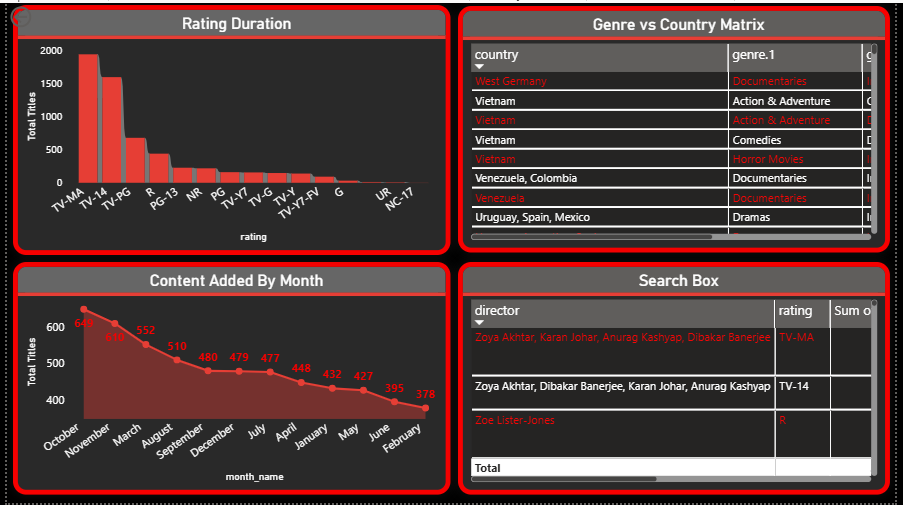

Layout of this report page (visuals, bound fields, positions):
{"tool":"powerbi","page":{"name":"Page 2","canvas":[1280,720],"ordinal":1},"visuals":[{"type":"areaChart","title":"Content Added By Month","fields":{"Y":["dates.Total Titles"],"Category":["dates.month_name"]},"box":[8.3,373.3,630,335],"z":0},{"type":"columnChart","title":"Rating Duration","fields":{"Y":["dates.Total Titles"],"Category":["netflix.rating"]},"box":[8.3,3.3,630,360],"z":1000},{"type":"tableEx","title":"Genre vs Country Matrix","fields":{"Values":["netflix.country","netflix.genre.1","netflix.genre.2","netflix.genre.3"]},"box":[650,5,621.7,355],"z":2000},{"type":"actionButton","box":[0,0,100,40],"z":3000},{"type":"tableEx","title":"Search Box","fields":{"Values":["netflix.director","netflix.rating","Sum(netflix.duration)","netflix.cast"]},"box":[650,373.3,621.7,335],"z":4000}]}

Visuals, with their boxes in screenshot pixels (x1, y1, x2, y2), scaled from the page's 1280x720 canvas onto the 903x505 screenshot:
"Content Added By Month" areaChart: locate(6, 262, 450, 497)
"Rating Duration" columnChart: locate(6, 2, 450, 255)
"Genre vs Country Matrix" tableEx: locate(459, 4, 897, 252)
actionButton: locate(0, 0, 71, 28)
"Search Box" tableEx: locate(459, 262, 897, 497)
